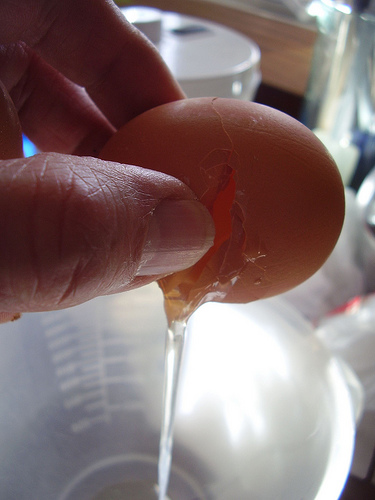egg: (88, 95, 343, 307)
